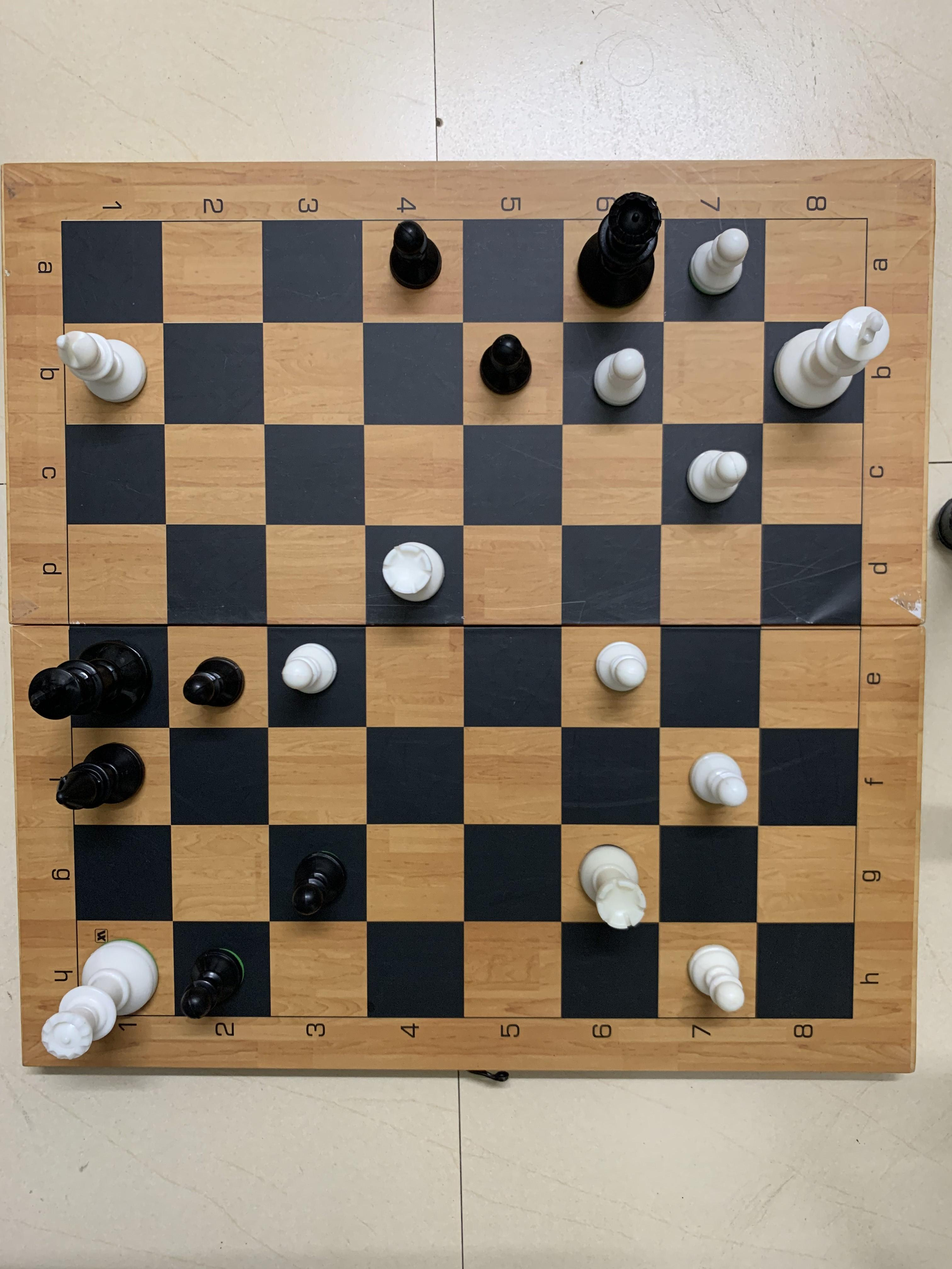black_bishop: (39, 738, 169, 819)
black_king: (22, 622, 158, 739)
black_pawn: (170, 929, 273, 1023), (173, 634, 259, 727), (466, 324, 553, 410), (367, 216, 454, 298), (280, 839, 362, 925)
black_queen: (568, 181, 673, 317)
white_bishop: (39, 320, 163, 424)
white_king: (776, 302, 895, 421)
white_pawn: (674, 735, 762, 820), (567, 631, 657, 713), (671, 431, 757, 516), (678, 930, 759, 1019), (669, 225, 759, 302), (584, 331, 660, 419), (274, 633, 353, 713)
white_queen: (33, 927, 172, 1062)
white_rook: (568, 830, 662, 934), (368, 531, 458, 624)
